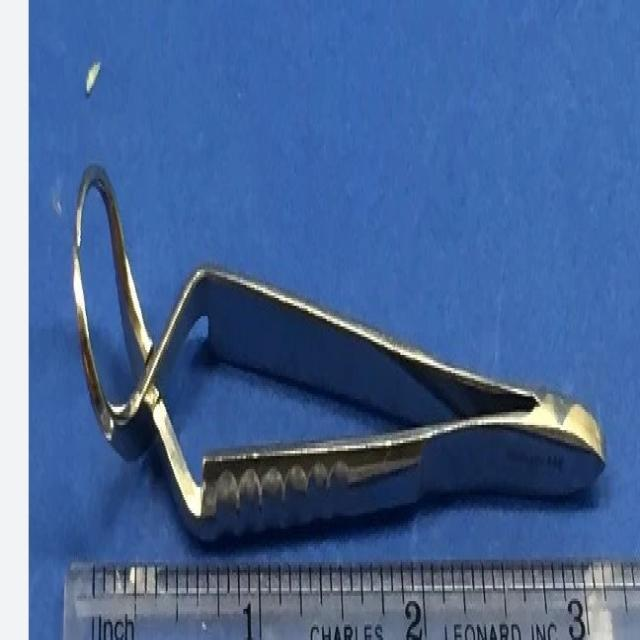Jones Towel Clamp: (70, 159, 610, 557)
